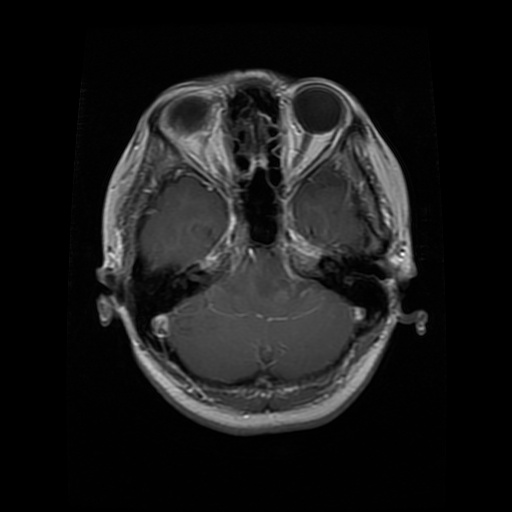glioma: (222, 249, 315, 304)
